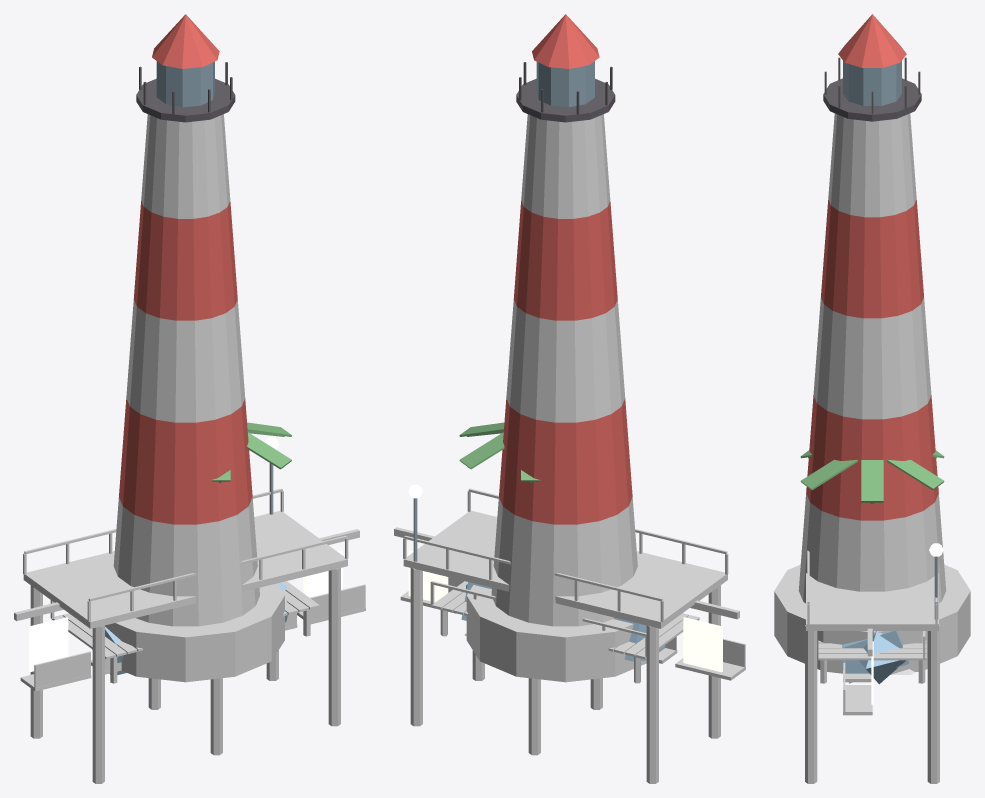
The model's file is common_coast_kit.glb.
3 renders of one model, left to right at view 1: azimuth 30°, elevation 25°; view 2: azimuth 150°, elevation 25°; view 3: azimuth 270°, elevation 25°, orthographic.
Visible parts, largest first — view 1: cp_lighthouse, cp_pier_section, cp_hotel_balconies, cp_boardwalk, cp_palm_tree; view 2: cp_lighthouse, cp_pier_section, cp_hotel_balconies, cp_boardwalk, cp_palm_tree; view 3: cp_lighthouse, cp_pier_section, cp_palm_tree, cp_boardwalk, cp_fishing_boat, cp_hotel_balconies.
Part boxes in pixels (left/top/right/bottom): cp_lighthouse: left=105, top=14, right=284, bottom=682; cp_pier_section: left=23, top=437, right=348, bottom=783; cp_hotel_balconies: left=14, top=529, right=365, bottom=691; cp_boardwalk: left=50, top=581, right=319, bottom=683; cp_palm_tree: left=211, top=422, right=291, bottom=482; cp_lighthouse: left=466, top=14, right=646, bottom=682; cp_pier_section: left=403, top=484, right=728, bottom=783; cp_hotel_balconies: left=394, top=527, right=745, bottom=680; cp_boardwalk: left=430, top=581, right=699, bottom=683; cp_palm_tree: left=459, top=422, right=540, bottom=482; cp_lighthouse: left=774, top=14, right=970, bottom=674; cp_pier_section: left=805, top=543, right=943, bottom=783; cp_palm_tree: left=800, top=450, right=944, bottom=503; cp_boardwalk: left=818, top=631, right=926, bottom=683; cp_fishing_boat: left=840, top=631, right=909, bottom=684; cp_hotel_balconies: left=843, top=628, right=873, bottom=715.
Size of the model in its own units: 16 by 31.9 by 8.
